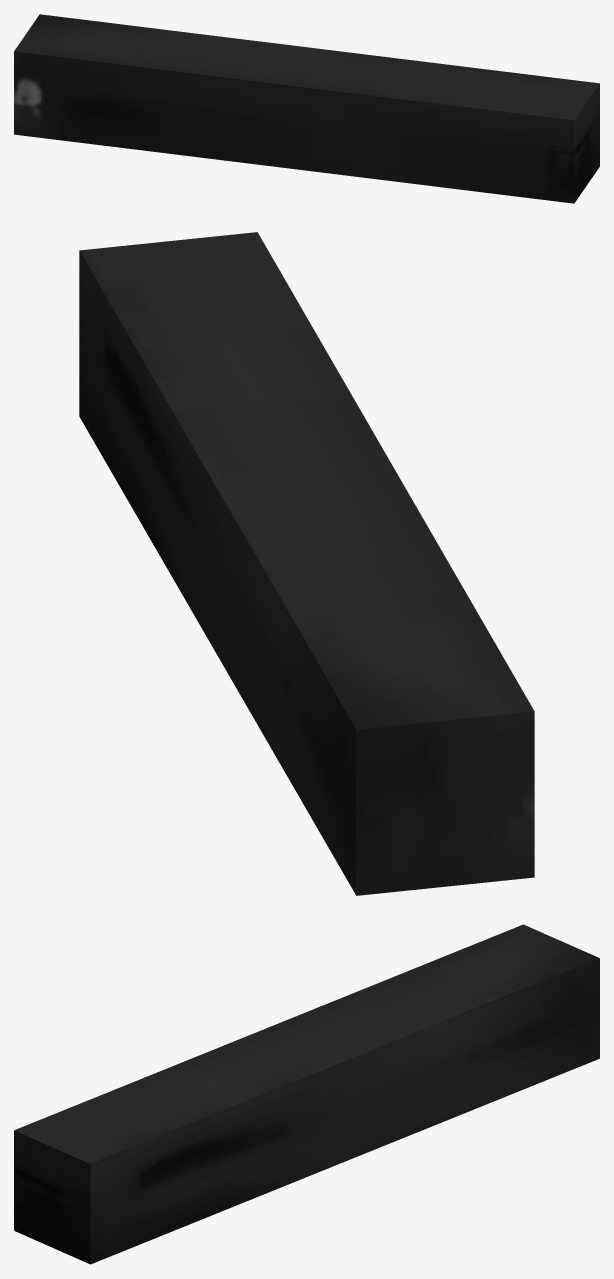
The model's file is frame__tower_brace_1.glb.
3 renders of one model, top to bottom at view 1: azimuth 30°, elevation 25°; view 2: azimuth 150°, elevation 25°; view 3: azimuth 270°, elevation 25°, orthographic. The views are drawn at different scales.
Visible parts, largest first — view 1: world; view 2: world; view 3: world.
Part boxes in pixels (box(x1,y1,x2,y2)): world: box(14, 14, 599, 203); world: box(79, 232, 534, 895); world: box(14, 924, 599, 1264).
Size of the model in its own units: 0.2561 by 0.05 by 0.2646.
Materials: 1 (1 with a texture image).
